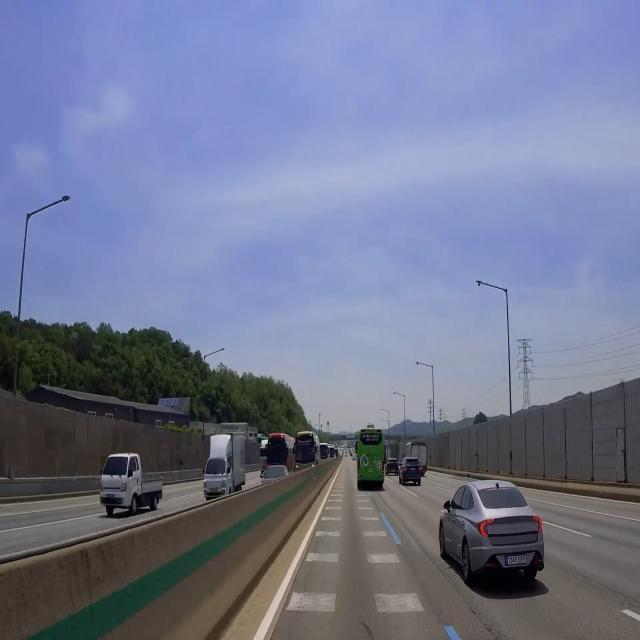car: (504, 553, 532, 571), (207, 479, 222, 494), (104, 490, 118, 505), (409, 464, 420, 475), (367, 466, 377, 477)
